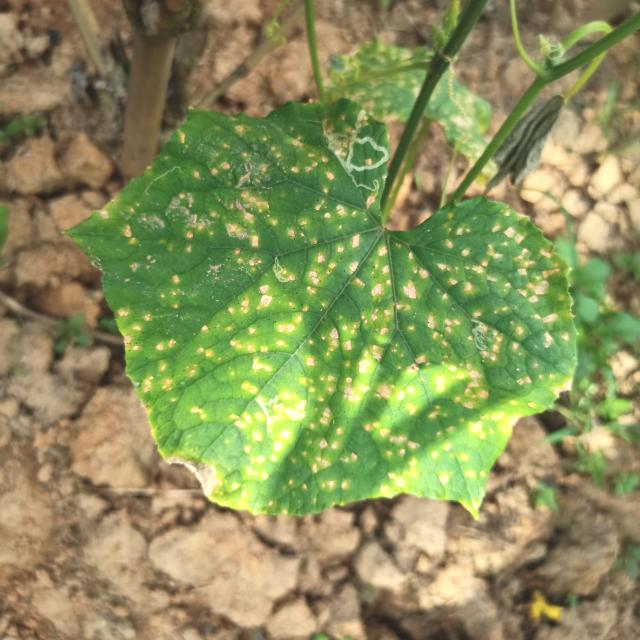disease_cucumber: (125, 146, 551, 492)
